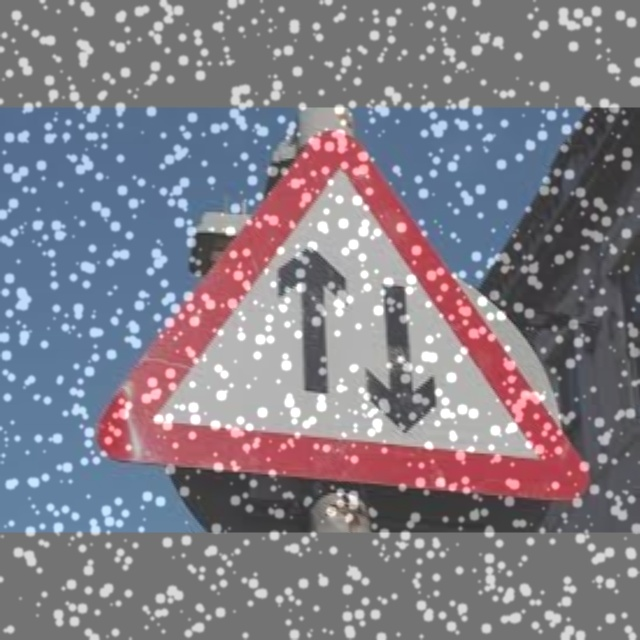Mandatory_Two_Way_Traffic: (128, 138, 578, 491)
